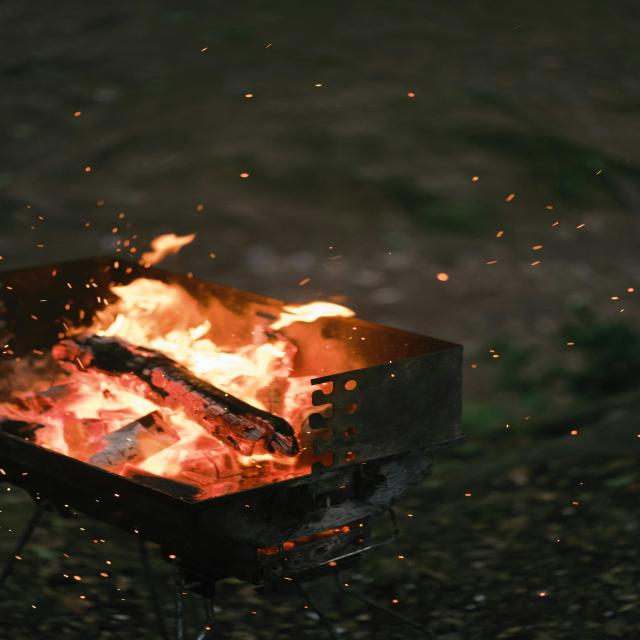fire: (13, 234, 344, 482)
